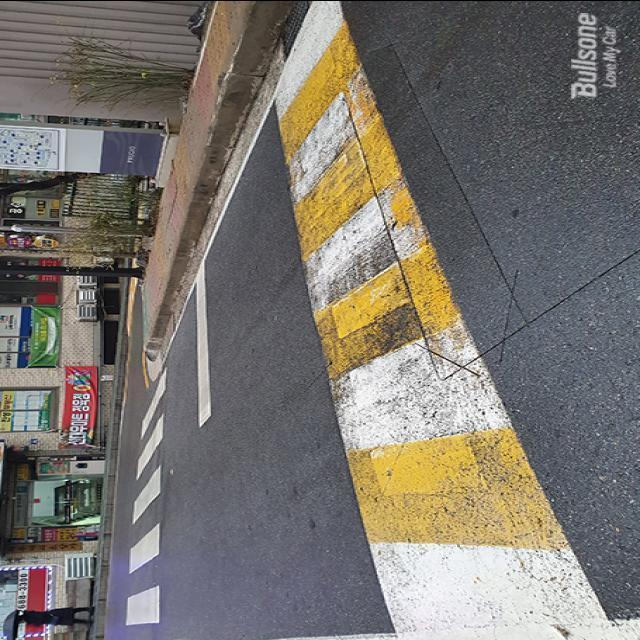Speed_Breaker: (259, 0, 633, 640), (266, 0, 624, 639)
